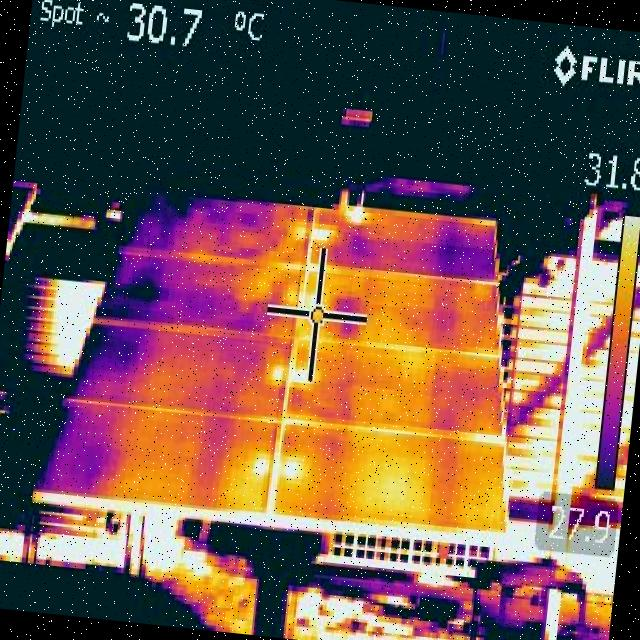Hotspot: (372, 468, 412, 506), (342, 199, 371, 231), (279, 452, 306, 484), (289, 358, 314, 387), (267, 355, 288, 386), (253, 448, 272, 481), (288, 218, 308, 244), (308, 223, 330, 243), (302, 292, 317, 320)
